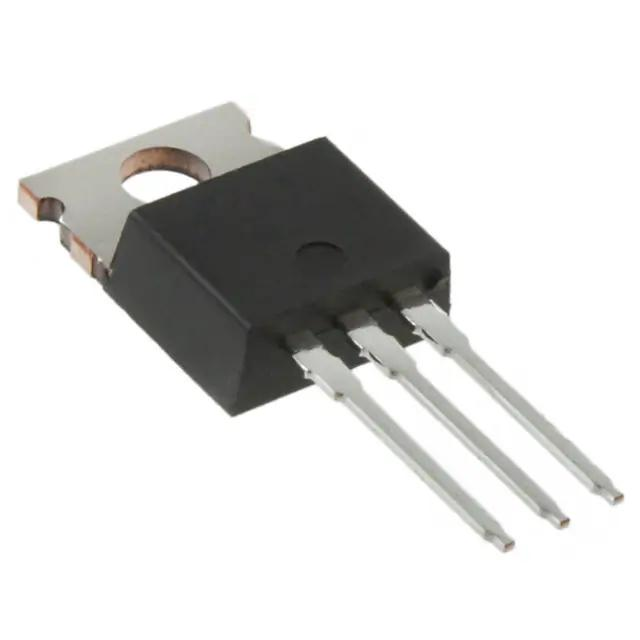Transistor: (29, 116, 606, 541)
